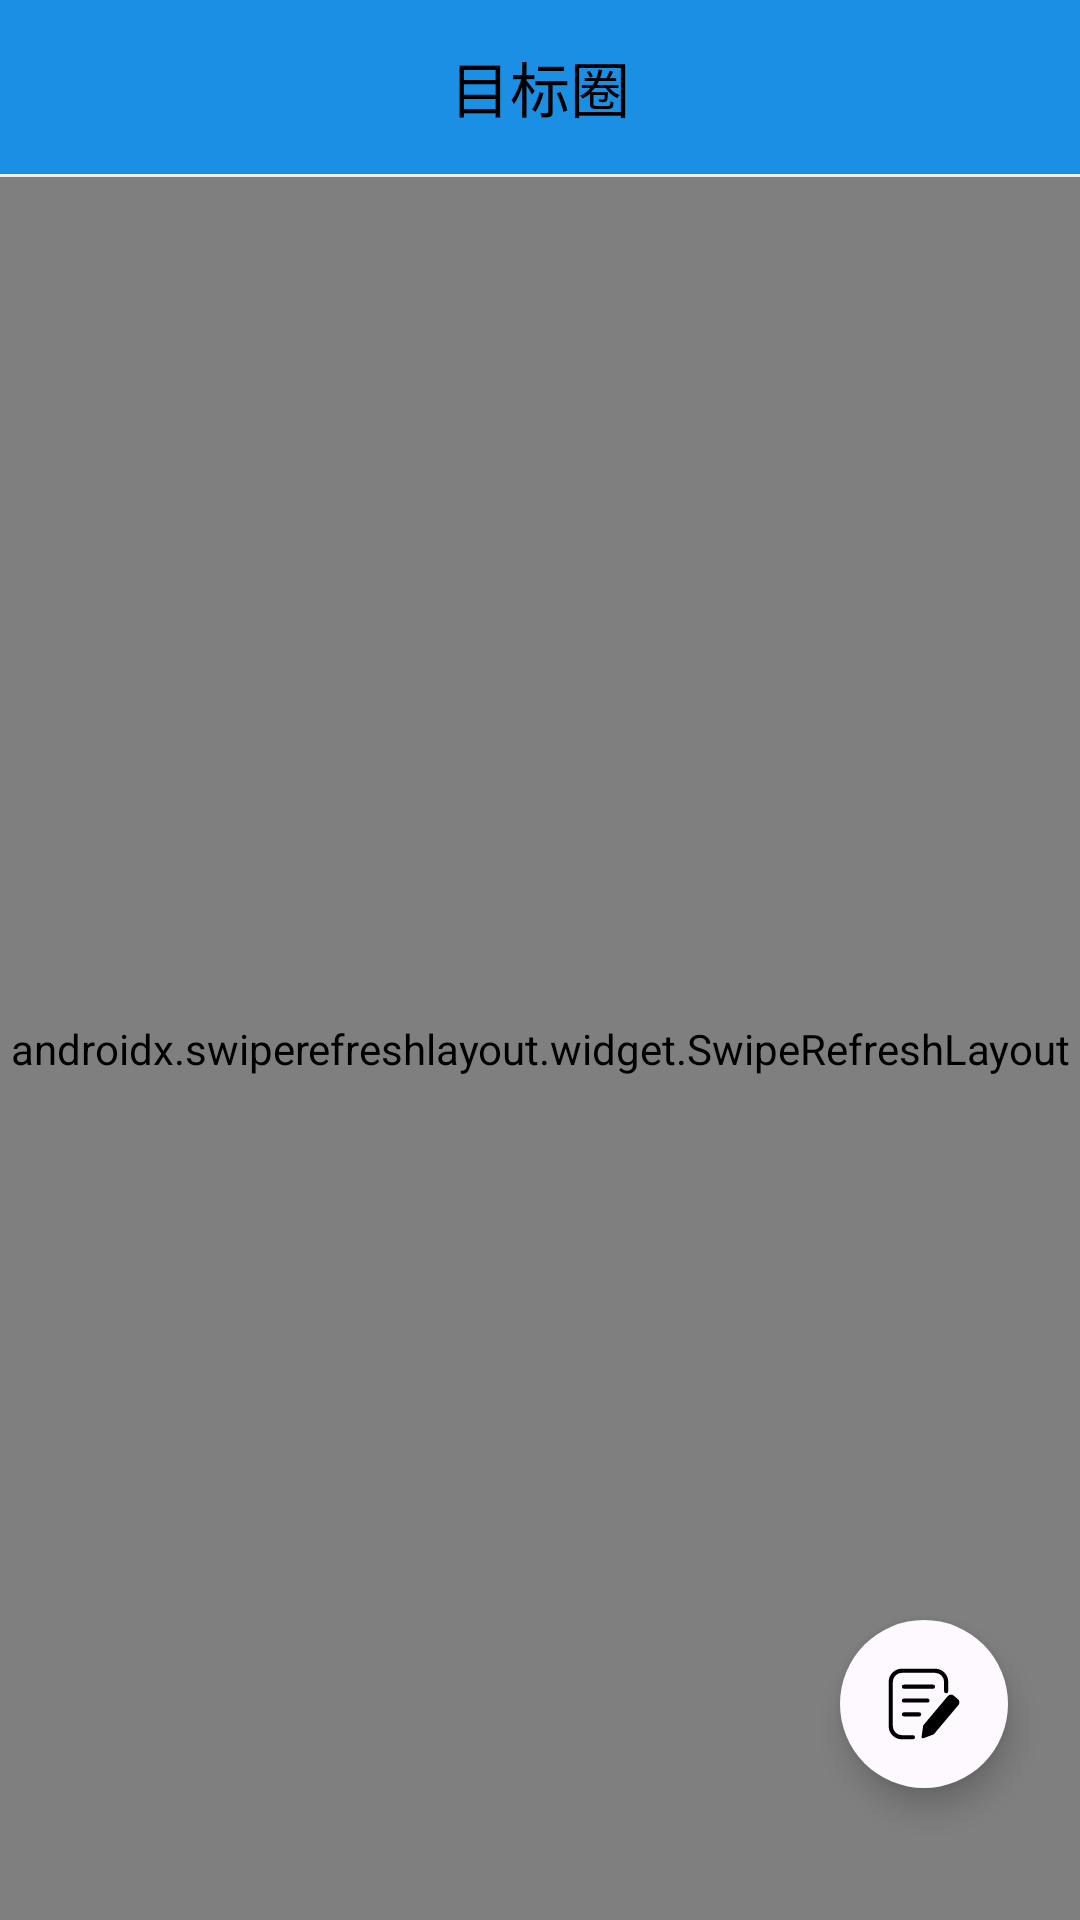

Icon click points for this 1080px x 1920px phone screenshot, format point (x, y):
write: point (924, 1704)
